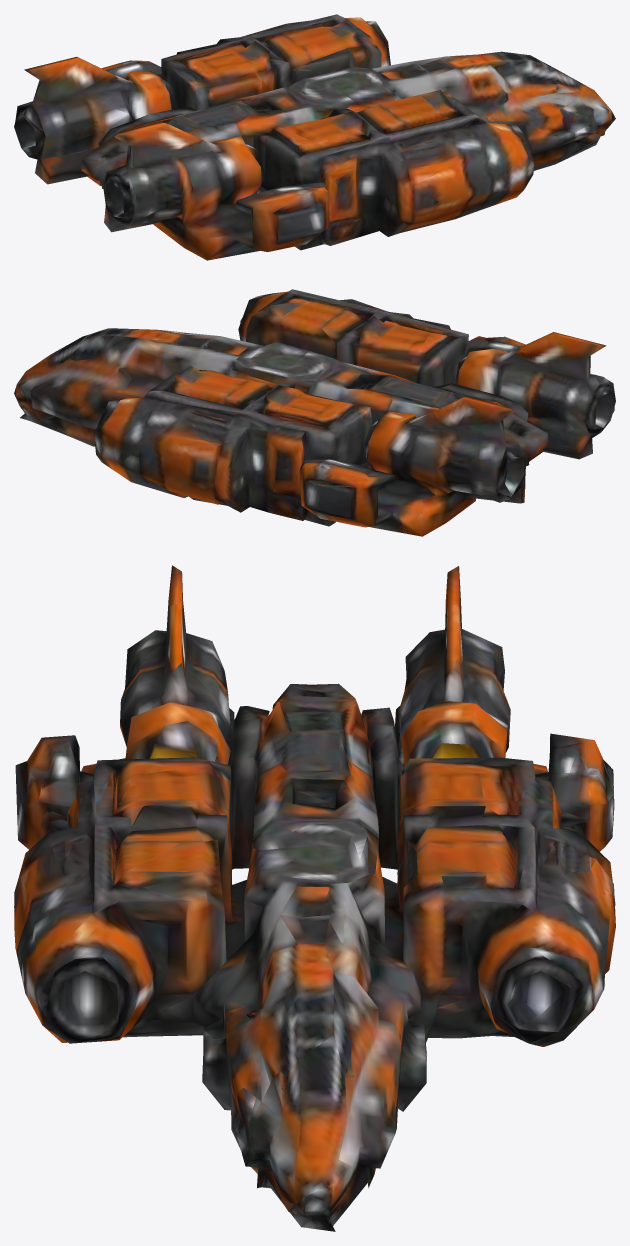
File: wayfarer_lod.glb
3 views of the same model, one above another, from view 1: azimuth 30°, elevation 25°; view 2: azimuth 150°, elevation 25°; view 3: azimuth 270°, elevation 25° (orthographic). The views are drawn at different scales.
Parts seen in each view (by area): view 1: tripo_node_e6e56bba-f139-4763-910e-696fea13da8b; view 2: tripo_node_e6e56bba-f139-4763-910e-696fea13da8b; view 3: tripo_node_e6e56bba-f139-4763-910e-696fea13da8b.
Boxes of the visible parts, x1,y1,x2,y2 form: tripo_node_e6e56bba-f139-4763-910e-696fea13da8b: (14,14,615,260); tripo_node_e6e56bba-f139-4763-910e-696fea13da8b: (14,289,615,536); tripo_node_e6e56bba-f139-4763-910e-696fea13da8b: (14,565,615,1231).
Size of the model in its own units: 0.9847 by 0.29 by 0.6002.
1 material, 1 textured.
